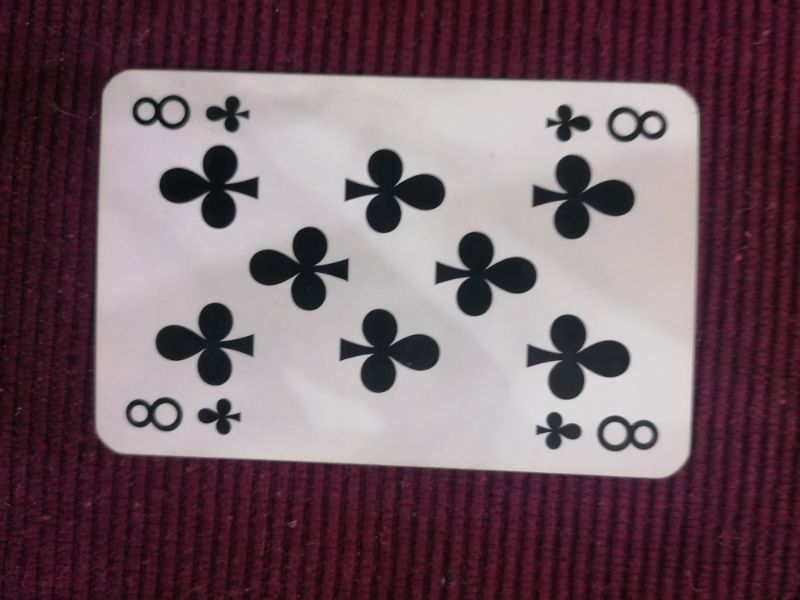8c: (536, 97, 674, 147), (534, 408, 661, 456), (120, 392, 247, 439), (130, 93, 253, 137)
